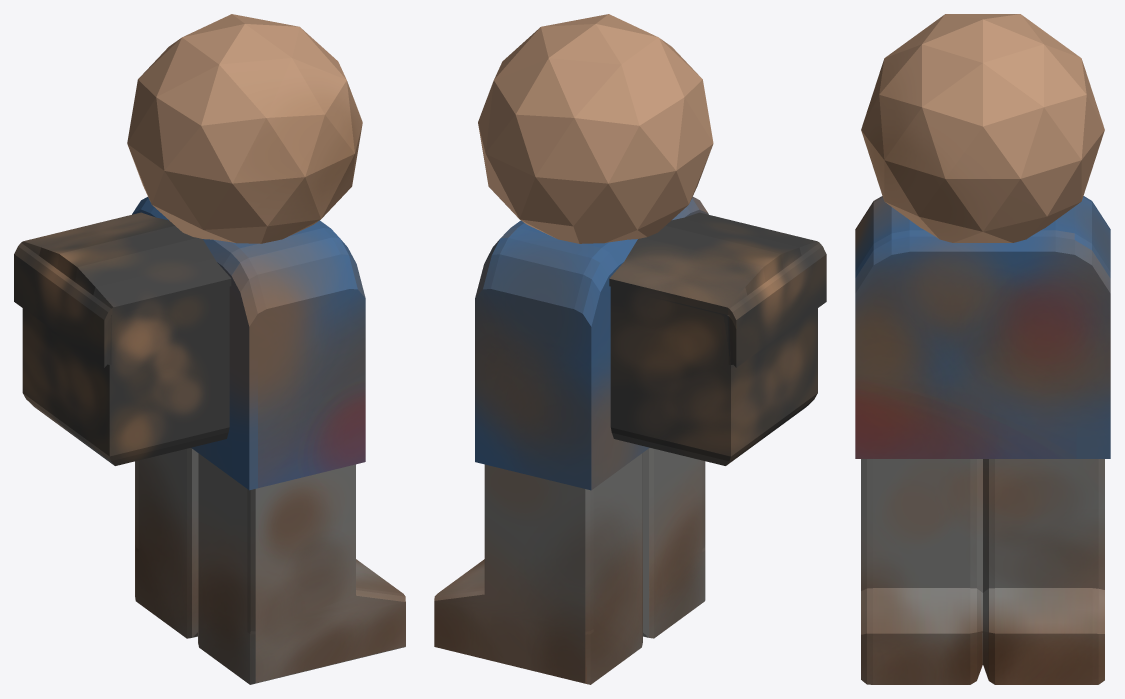
Rendered from player.fbx.
The picture shows the model from 3 angles, left to right: view 1: azimuth 30°, elevation 25°; view 2: azimuth 150°, elevation 25°; view 3: azimuth 270°, elevation 25°; orthographic projection.
Parts seen in each view (by area): view 1: Cube, Cube.002, Icosphere, Cube.001; view 2: Cube, Cube.002, Icosphere, Cube.001; view 3: Cube.001, Cube, Icosphere.
Part boxes in pixels (bbox=[...]): Cube: bbox=[135, 448, 405, 684]; Cube.002: bbox=[14, 212, 231, 465]; Icosphere: bbox=[127, 14, 362, 243]; Cube.001: bbox=[132, 197, 365, 490]; Cube: bbox=[434, 448, 705, 684]; Cube.002: bbox=[609, 212, 826, 465]; Icosphere: bbox=[478, 14, 713, 243]; Cube.001: bbox=[475, 197, 708, 490]; Cube.001: bbox=[855, 196, 1110, 458]; Cube: bbox=[861, 459, 1104, 684]; Icosphere: bbox=[861, 14, 1104, 242].
Size of the model in its own units: 278 by 556 by 209.
